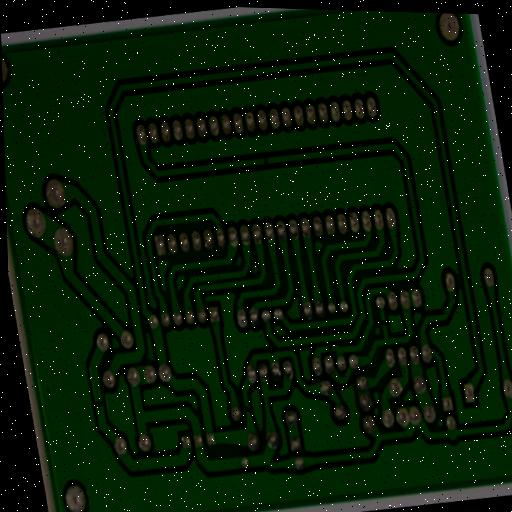open_circuit: (92, 395, 106, 412), (240, 402, 253, 417), (260, 154, 272, 169), (379, 316, 390, 332), (324, 342, 336, 356)
